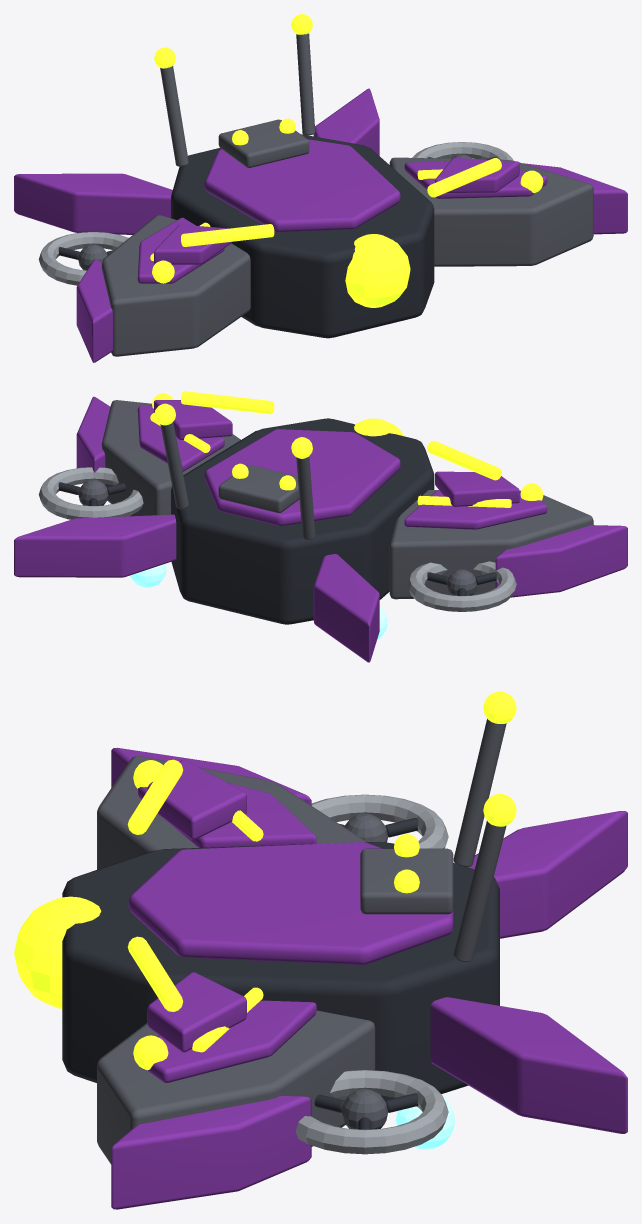
Rendered from aegis_drone_l05.glb.
3 views of the same model, one above another, from view 1: azimuth 30°, elevation 25°; view 2: azimuth 150°, elevation 25°; view 3: azimuth 270°, elevation 25° (orthographic). The views are drawn at different scales.
Visible parts, largest first — view 1: carbon_hull, right_swept_wing, left_swept_wing, upper_violet_armour, left_rear_fin, interceptor_eye, left_elite_winglet, dorsal_signal_plate, right_rear_fin, right_elite_winglet, left_duct, left_armour_chevron (+9 smaller); view 2: carbon_hull, upper_violet_armour, right_rear_fin, left_swept_wing, left_elite_winglet, right_swept_wing, left_rear_fin, left_violet_wing_panel, left_duct, right_duct, dorsal_signal_plate, left_armour_chevron (+14 smaller); view 3: carbon_hull, upper_violet_armour, right_rear_fin, right_swept_wing, right_elite_winglet, left_rear_fin, left_swept_wing, right_duct, right_violet_wing_panel, dorsal_signal_plate, interceptor_eye, right_armour_chevron (+15 smaller).
Boxes of the visible parts, bbox=[...] form: carbon_hull: bbox=[171, 134, 434, 338]; right_swept_wing: bbox=[389, 157, 593, 266]; left_swept_wing: bbox=[101, 215, 250, 356]; upper_violet_armour: bbox=[204, 139, 400, 232]; left_rear_fin: bbox=[14, 173, 172, 234]; interceptor_eye: bbox=[345, 234, 410, 307]; left_elite_winglet: bbox=[76, 259, 112, 362]; dorsal_signal_plate: bbox=[218, 119, 309, 167]; right_rear_fin: bbox=[313, 88, 379, 155]; right_elite_winglet: bbox=[523, 163, 627, 234]; left_duct: bbox=[38, 232, 128, 285]; left_armour_chevron: bbox=[154, 224, 231, 264]; carbon_hull: bbox=[171, 418, 434, 624]; upper_violet_armour: bbox=[204, 429, 400, 525]; right_rear_fin: bbox=[14, 514, 176, 577]; left_swept_wing: bbox=[389, 490, 593, 599]; left_elite_winglet: bbox=[495, 525, 627, 597]; right_swept_wing: bbox=[101, 400, 240, 516]; left_rear_fin: bbox=[313, 554, 379, 662]; left_violet_wing_panel: bbox=[404, 490, 547, 529]; left_duct: bbox=[407, 561, 516, 611]; right_duct: bbox=[38, 467, 143, 519]; dorsal_signal_plate: bbox=[218, 464, 299, 512]; left_armour_chevron: bbox=[435, 471, 519, 506]; carbon_hull: bbox=[62, 841, 499, 1100]; upper_violet_armour: bbox=[128, 842, 453, 964]; right_rear_fin: bbox=[430, 997, 627, 1133]; right_swept_wing: bbox=[97, 1010, 375, 1164]; right_elite_winglet: bbox=[111, 1096, 311, 1209]; left_rear_fin: bbox=[467, 811, 627, 938]; left_swept_wing: bbox=[97, 756, 366, 869]; right_duct: bbox=[295, 1070, 448, 1154]; right_violet_wing_panel: bbox=[146, 1000, 316, 1082]; dorsal_signal_plate: bbox=[360, 848, 453, 914]; interceptor_eye: bbox=[14, 896, 101, 1008]; right_armour_chevron: bbox=[147, 972, 246, 1052].
Size of the model in its own units: 1.02 by 0.38 by 0.6595.
